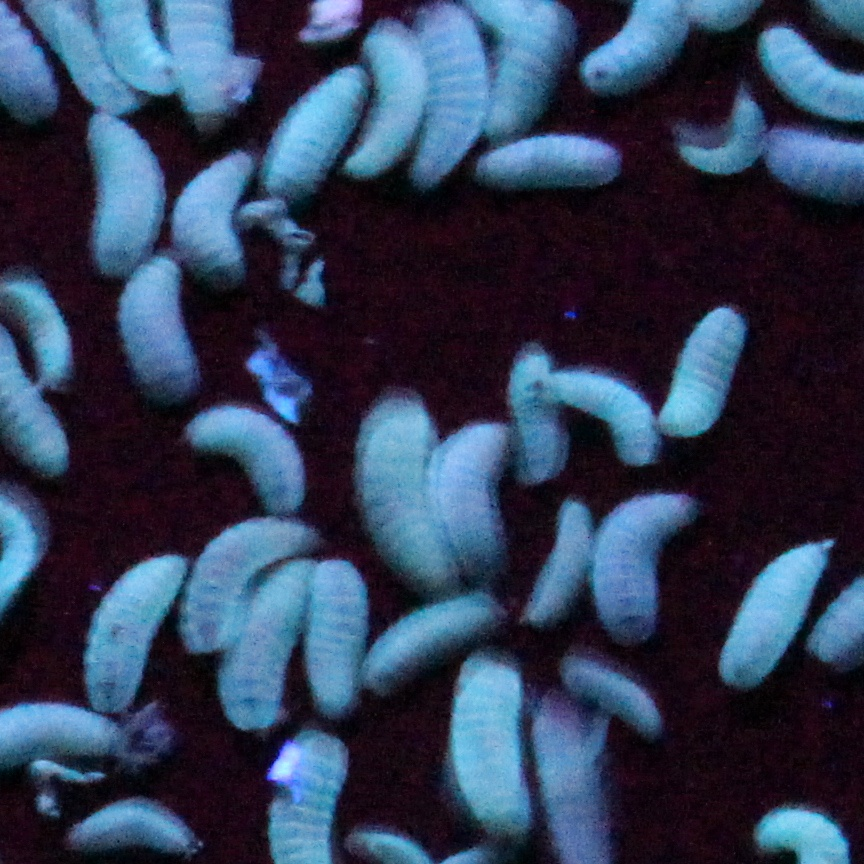larve: (187, 515, 314, 646), (587, 483, 685, 649), (219, 553, 314, 724), (87, 553, 187, 712), (187, 401, 312, 521), (364, 387, 439, 585), (448, 662, 530, 842), (80, 108, 166, 278), (360, 587, 496, 694), (428, 421, 514, 576), (337, 21, 430, 162), (662, 299, 755, 437), (414, 12, 489, 178), (537, 367, 657, 469), (121, 246, 198, 392), (300, 546, 364, 717), (266, 74, 357, 192), (178, 146, 257, 271), (478, 128, 621, 192), (500, 340, 562, 487), (3, 276, 80, 394), (482, 6, 557, 124), (75, 792, 200, 860), (678, 92, 769, 176), (523, 501, 589, 615), (569, 660, 666, 733)
